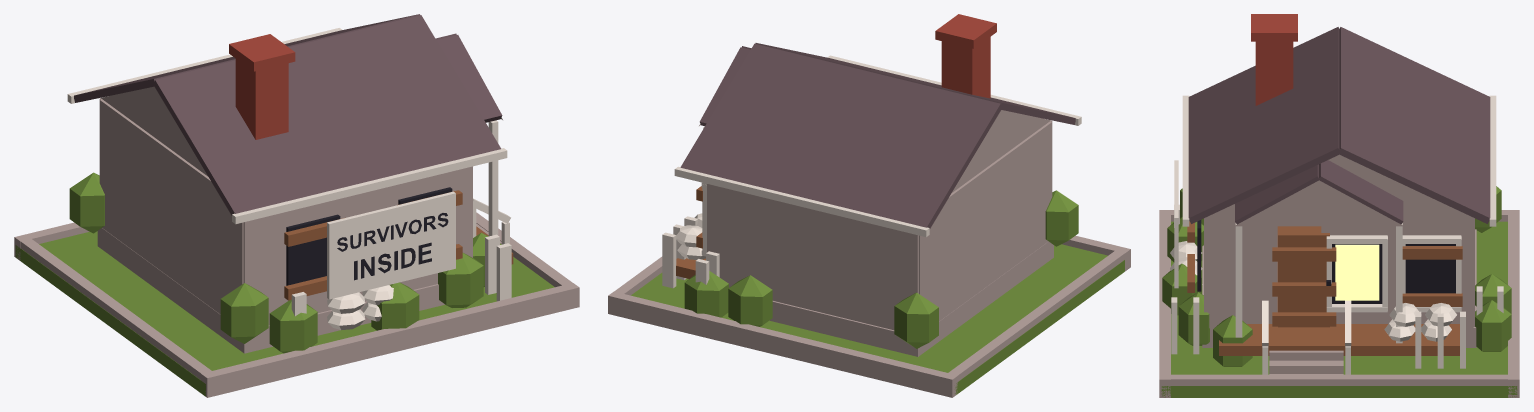
File: bld.safe-house.lod2.glb
3 views of the same model, side by side, from view 1: azimuth 30°, elevation 25°; view 2: azimuth 150°, elevation 25°; view 3: azimuth 270°, elevation 25° (orthographic). The views are drawn at different scales.
Parts seen in each view (by area): view 1: body, roof; view 2: body, roof; view 3: body, roof, door_front, interior.
Boxes of the visible parts, box(x1,y1,x2,y2) form: body: box(14, 28, 579, 397); roof: box(74, 14, 502, 215); body: box(608, 55, 1130, 397); roof: box(680, 14, 1075, 228); body: box(1159, 95, 1519, 397); roof: box(1188, 14, 1490, 224); door_front: box(1272, 233, 1336, 327); interior: box(1277, 226, 1321, 311).
Bounding box in the file's own units: 7.9 × 5.62 × 7.09.
